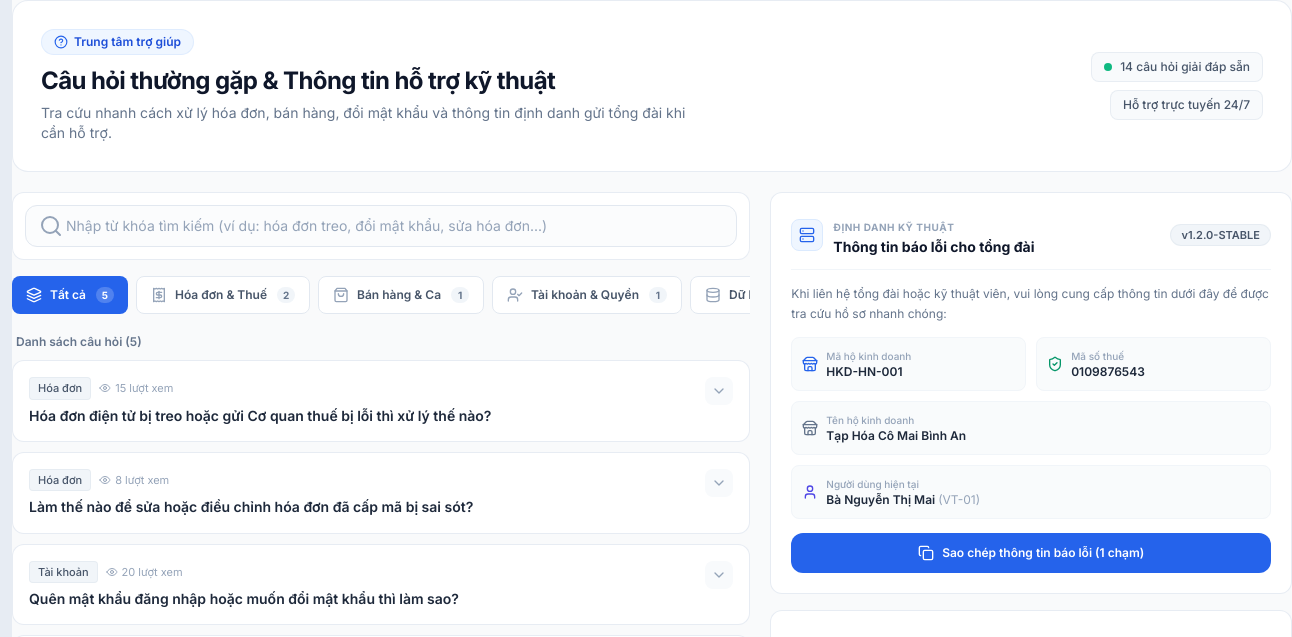
Test: NCL-19-CN-004: Màn hình câu hỏi thường gặp và thông tin hỗ trợ › TC-03: Thông tin định danh báo lỗi cho tổng đài › sao chép thông tin báo lỗi định dạng sẵn vào clipboard khi nhấn nút 1 chạm
Click the button with aria-label "Sao chép toàn bộ thông tin định danh báo lỗi". click: (1031, 553)
box: [791,533,1271,573]
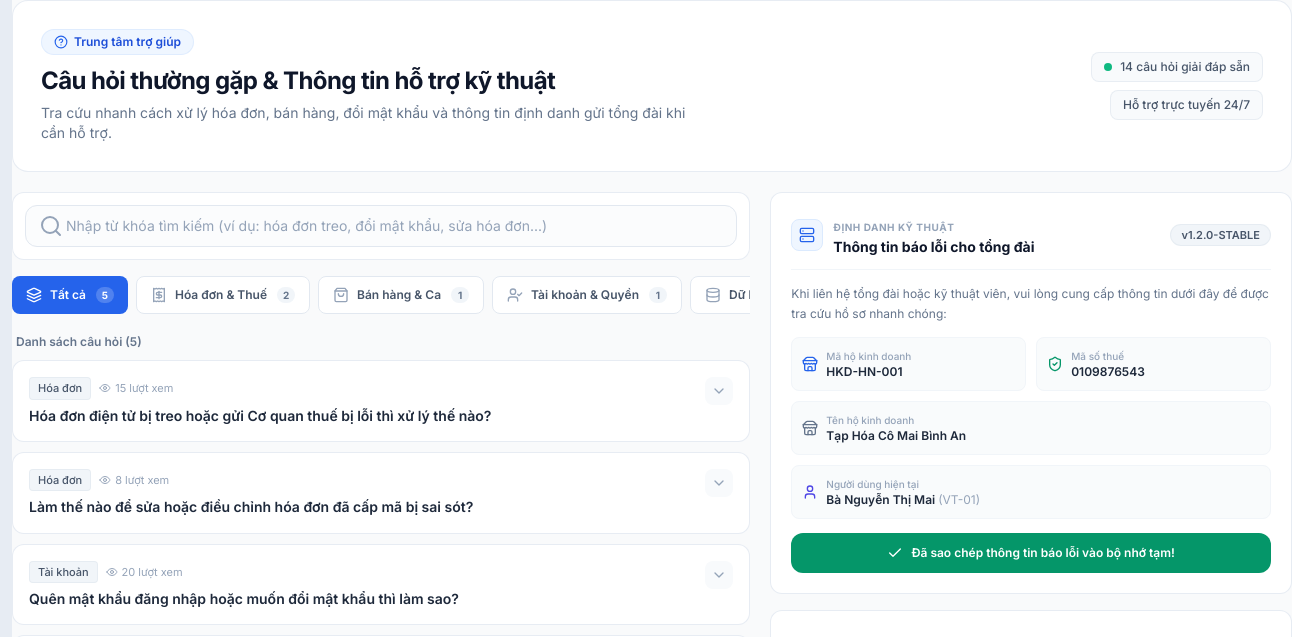
Now the text "Đã sao chép thông tin báo lỗi vào bộ nhớ tạm!" is shown, box [912,545,1175,561]
